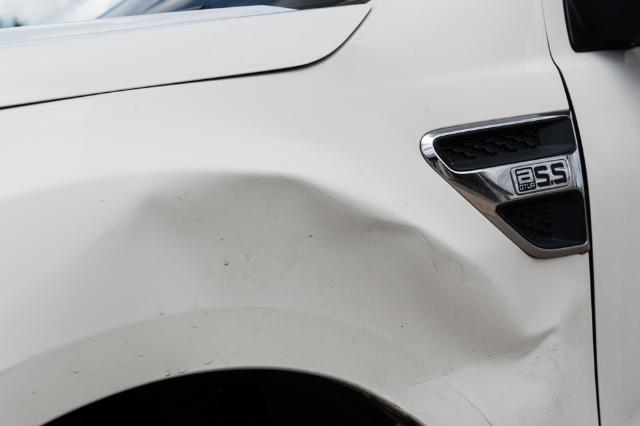Fender: (35, 144, 553, 412)
